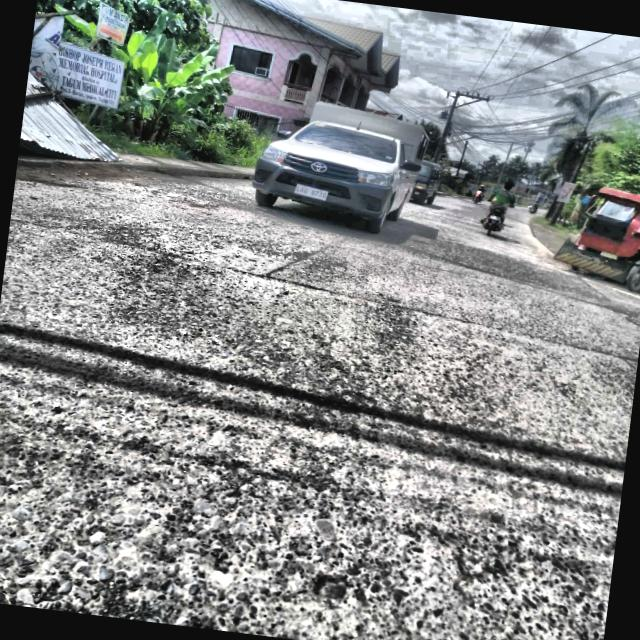license-plate: (294, 184, 327, 201)
